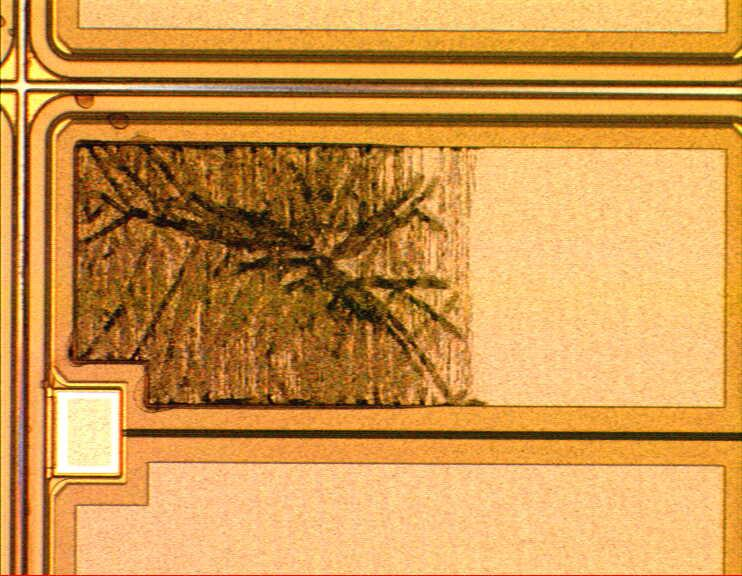SEZ BURNT: (68, 141, 491, 413)
